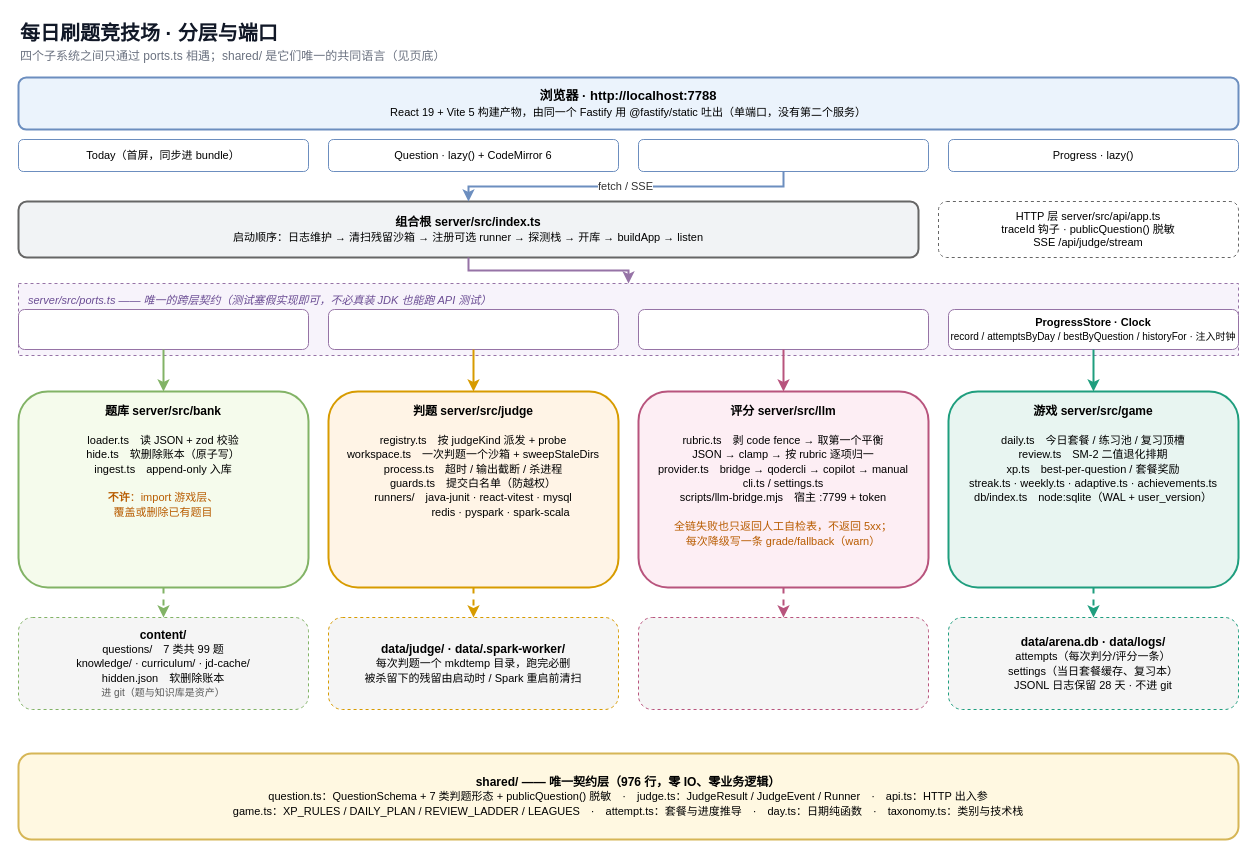
Some shapes in this 1256 by 857 pixel diagram are drawn without their labels. The box of each missing label's shape, as (x1, y1, x2, y2) in pixels:
Bank · lazy(): (638, 138, 928, 172)
BankPort all / visible / byId / hide / unhide / hiddenIds / ingest: (18, 308, 308, 350)
GradePort grade(q, answer, traceId) / available(): (638, 308, 928, 350)
JudgePort run(req, question, onEvent) / probe(kind): (328, 308, 618, 350)
宿主 CLI（容器外） qodercli / copilot 已登录会话 容器是 linux，调不到宿主 .exe → 走桥: (638, 616, 928, 710)
